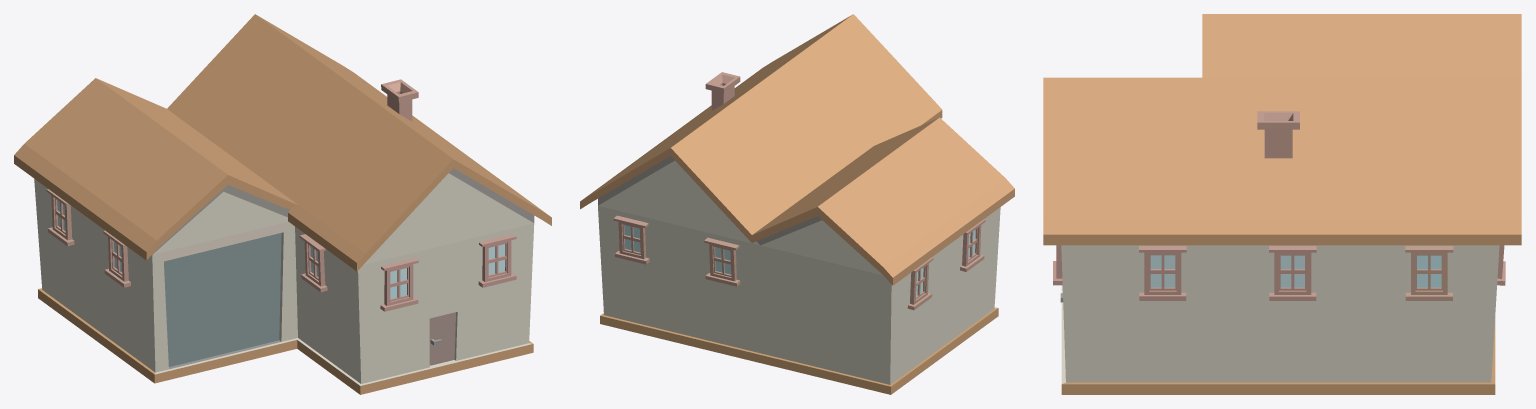
Rendered from cottage-wide.glb.
The picture shows the model from 3 angles, left to right: view 1: azimuth 30°, elevation 25°; view 2: azimuth 150°, elevation 25°; view 3: azimuth 270°, elevation 25°; orthographic projection. The views are drawn at different scales.
Parts seen in each view (by area): view 1: House5; view 2: House5; view 3: House5.
Boxes of the visible parts, x1=… form: House5: x1=14, y1=14, x2=551, y2=394; House5: x1=580, y1=14, x2=1014, y2=394; House5: x1=1043, y1=14, x2=1521, y2=394.
Size of the model in its own units: 0.9878 by 0.6131 by 1.
Materials: 1 (1 with a texture image).
